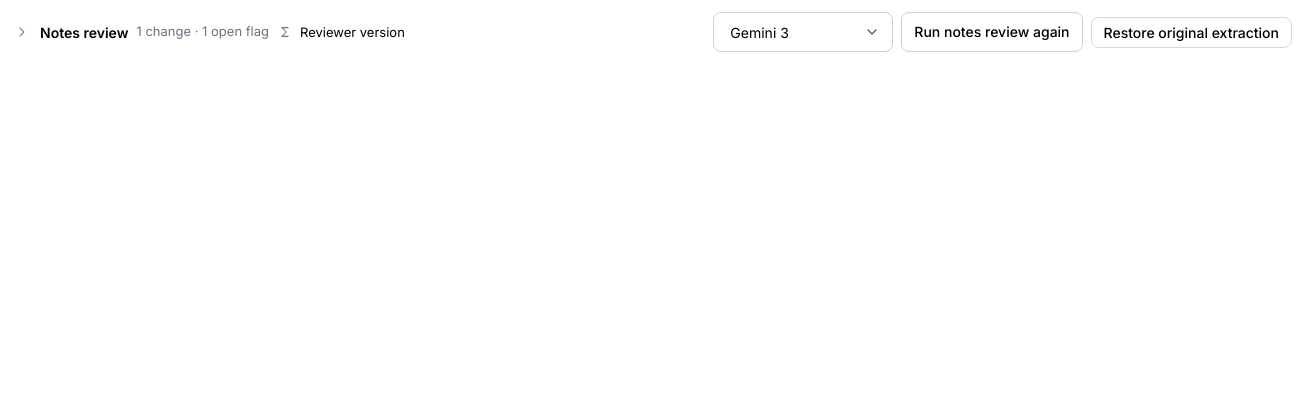
Test case: NotesReviewerPanel › renders the prose diff + flag from the payload
Expected: the element with test id "notes-reviewer-panel" is shown, [12,12,1292,52]
Expected: the element with test id "notes-reviewer-version-indicator" is shown, [277,23,405,41]
Click the button with test id "notes-reviewer-toggle".
click(140, 32)  # box [12,22,269,42]
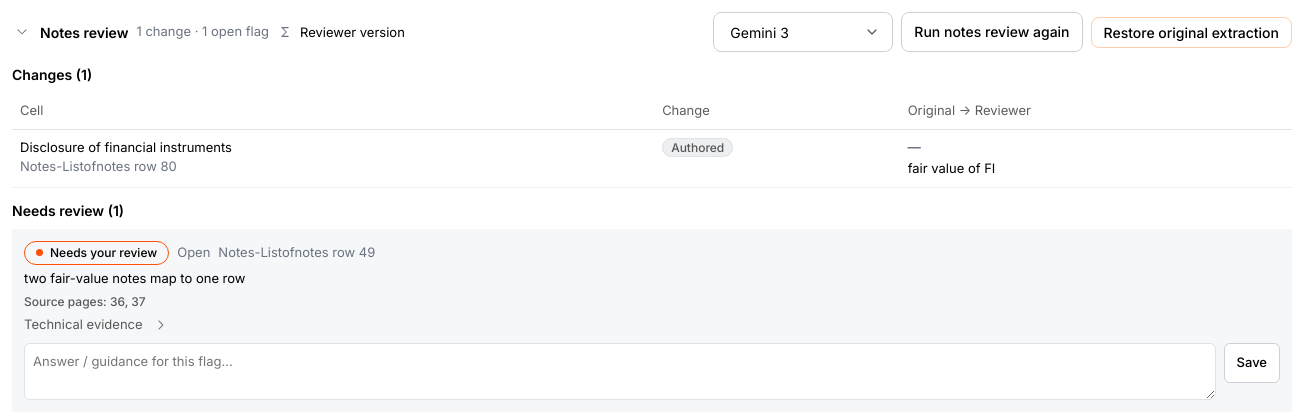
Now the text "Disclosure of financial instruments" is shown, box [20,138,232,154]
Now the text "Authored" is shown, box [662,138,733,156]
Now the text "two fair-value notes map to one row" is shown, box [24,270,246,286]
